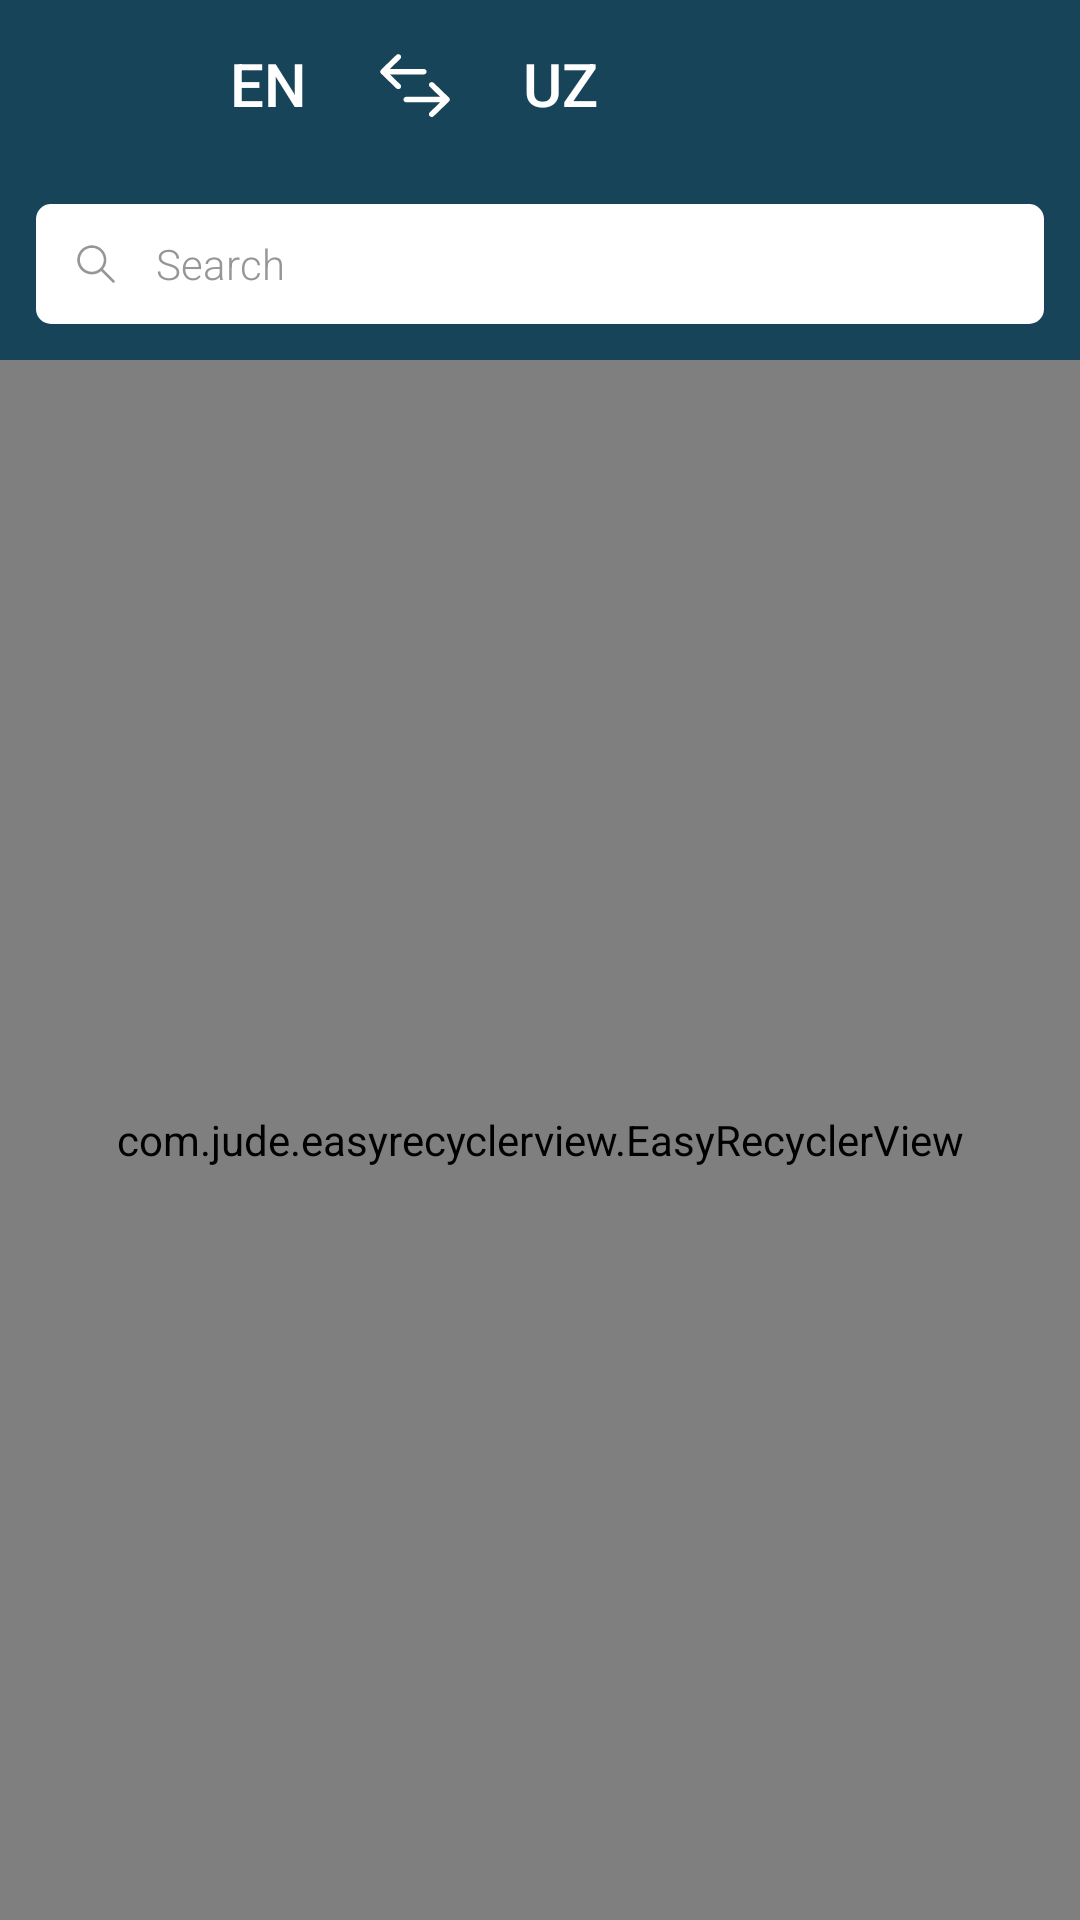

Screen size 1080px x 1920px. Icon name, then its center in pixels as [x,y]:
swap: [415,85]
